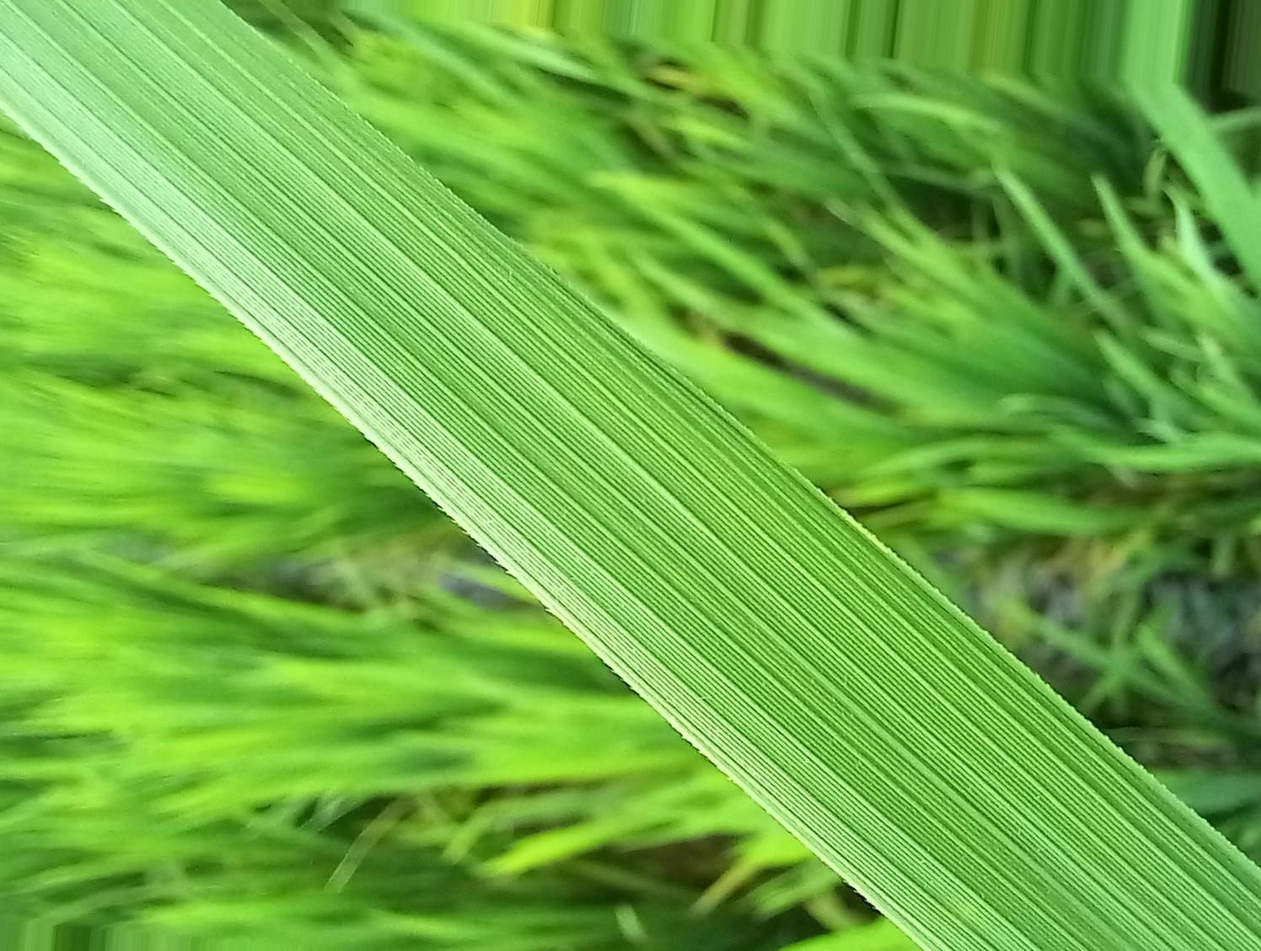Healthy: (2, 1, 1260, 950)
